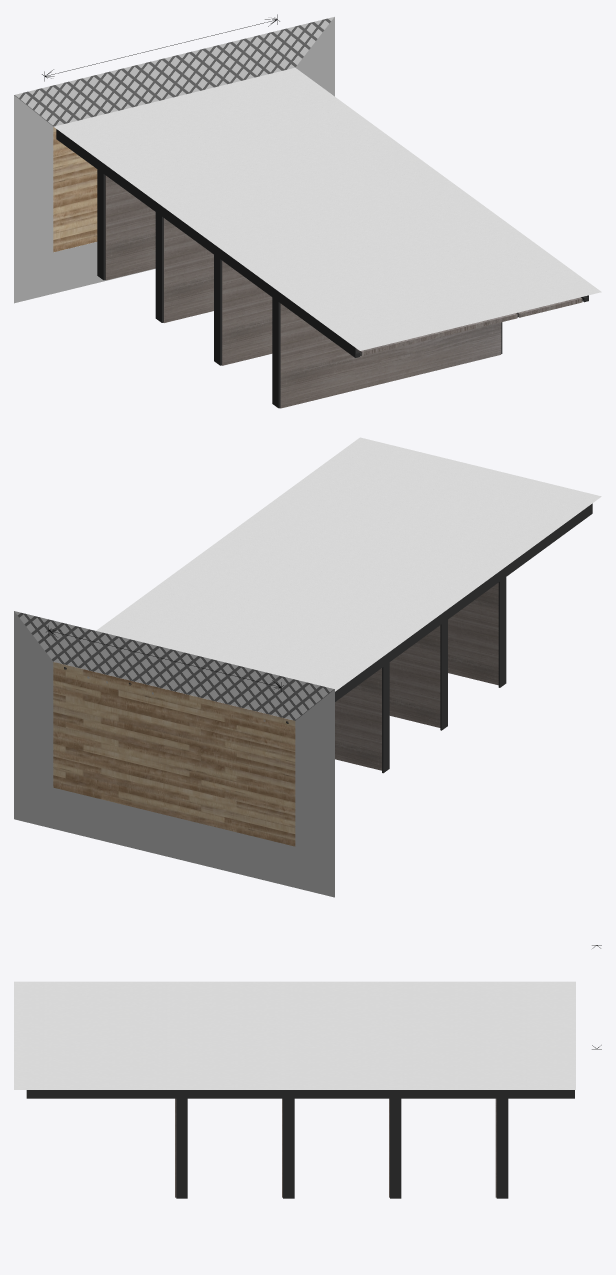
Rendered from C2 Media + D Media SC.OBJ.
The picture shows the model from 3 angles, top to bottom: view 1: azimuth 30°, elevation 25°; view 2: azimuth 150°, elevation 25°; view 3: azimuth 270°, elevation 25°; orthographic projection. The views are drawn at different scales.
Parts seen in each view (by area): view 1: Object_63, Object_64, Object_57, Object_70, Object_62, Object_47, Object_42, Object_52, Object_2, Object_68, Object_66, Object_6 (+4 smaller); view 2: Object_63, Object_62, Object_64, Object_68, Object_70, Object_66, Object_52, Object_57, Object_47, Object_2, Object_60, Object_50 (+1 smaller); view 3: Object_63, Object_34, Object_46, Object_56, Object_61, Object_51.
Boxes of the visible parts, bbox=[...] form: Object_63: bbox=[54, 67, 601, 350]; Object_64: bbox=[14, 17, 334, 126]; Object_57: bbox=[280, 303, 501, 408]; Object_70: bbox=[14, 95, 53, 302]; Object_62: bbox=[53, 127, 97, 252]; Object_47: bbox=[163, 218, 213, 322]; Object_42: bbox=[105, 175, 155, 280]; Object_52: bbox=[222, 260, 272, 365]; Object_2: bbox=[56, 129, 359, 357]; Object_68: bbox=[14, 242, 155, 303]; Object_66: bbox=[295, 17, 334, 96]; Object_6: bbox=[356, 313, 517, 356]; Object_63: bbox=[96, 437, 601, 691]; Object_62: bbox=[53, 662, 295, 846]; Object_64: bbox=[14, 611, 334, 720]; Object_68: bbox=[14, 787, 334, 897]; Object_70: bbox=[295, 689, 334, 897]; Object_66: bbox=[14, 611, 53, 818]; Object_52: bbox=[389, 625, 440, 727]; Object_57: bbox=[448, 583, 498, 685]; Object_47: bbox=[335, 668, 381, 770]; Object_2: bbox=[335, 503, 592, 701]; Object_60: bbox=[498, 577, 506, 687]; Object_50: bbox=[382, 662, 389, 773]; Object_63: bbox=[14, 981, 575, 1089]; Object_34: bbox=[26, 1090, 574, 1098]; Object_46: bbox=[496, 1098, 508, 1198]; Object_56: bbox=[283, 1098, 294, 1198]; Object_61: bbox=[176, 1098, 187, 1198]; Object_51: bbox=[390, 1098, 401, 1198].
Bounding box in the file's own units: 1626 × 1034 × 2817.
Materials: 11 (11 with a texture image).
